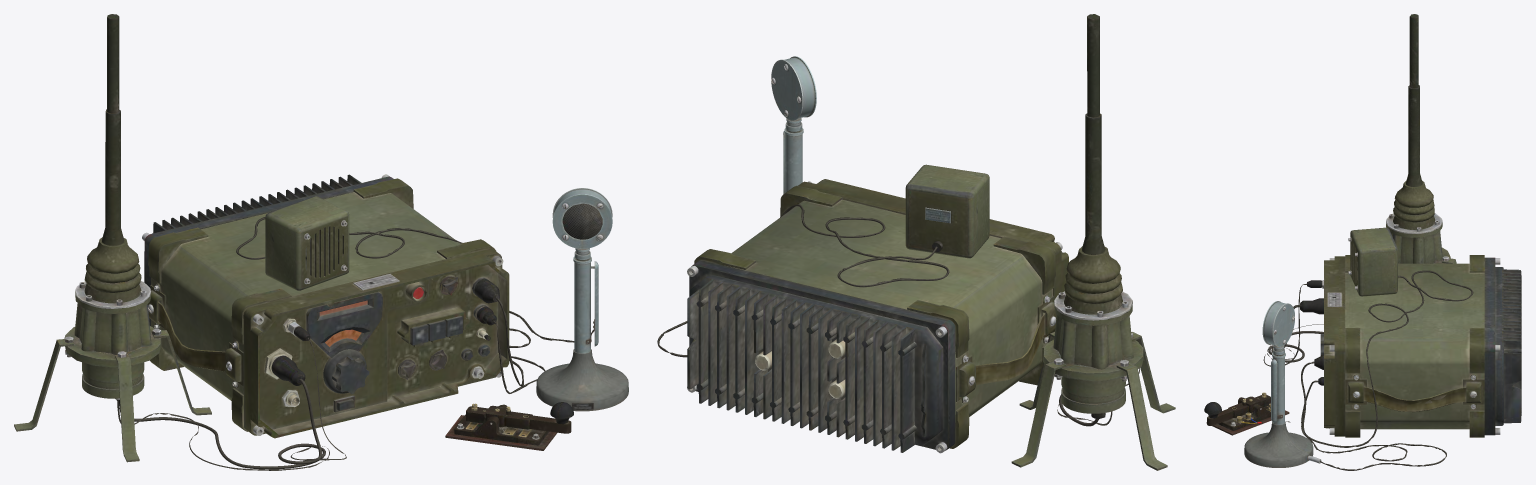
Rendered from radio_transceiver.glb.
3 views of the same model, side by side, from view 1: azimuth 30°, elevation 25°; view 2: azimuth 150°, elevation 25°; view 3: azimuth 270°, elevation 25° (orthographic). The views are drawn at different scales.
Parts seen in each view (by area): view 1: vintage_radio_transceiver, vintage_radio_transceiver_antenna, vintage_radio_transceiver_microphone, vintage_radio_transceiver_speaker, vintage_radio_transceiver_cables, vintage_radio_transceiver_morse_key_base, vintage_radio_transceiver_morse_key_arm, vintage_radio_transceiver_dial, vintage_radio_transceiver_antenna_plug_a; view 2: vintage_radio_transceiver, vintage_radio_transceiver_antenna, vintage_radio_transceiver_speaker, vintage_radio_transceiver_microphone, vintage_radio_transceiver_cables; view 3: vintage_radio_transceiver, vintage_radio_transceiver_antenna, vintage_radio_transceiver_microphone, vintage_radio_transceiver_speaker, vintage_radio_transceiver_cables, vintage_radio_transceiver_morse_key_arm, vintage_radio_transceiver_morse_key_base.
Part boxes in pixels (box(x1,y1,x2,y2)): vintage_radio_transceiver: box(142, 174, 509, 438); vintage_radio_transceiver_antenna: box(14, 14, 211, 462); vintage_radio_transceiver_microphone: box(536, 188, 628, 411); vintage_radio_transceiver_speaker: box(265, 196, 349, 290); vintage_radio_transceiver_cables: box(117, 217, 574, 470); vintage_radio_transceiver_morse_key_base: box(445, 404, 557, 450); vintage_radio_transceiver_morse_key_arm: box(466, 402, 573, 433); vintage_radio_transceiver_dial: box(323, 329, 369, 393); vintage_radio_transceiver_antenna_plug_a: box(271, 355, 305, 385); vintage_radio_transceiver: box(687, 179, 1068, 453); vintage_radio_transceiver_antenna: box(1011, 14, 1175, 470); vintage_radio_transceiver_speaker: box(905, 164, 989, 258); vintage_radio_transceiver_microphone: box(771, 56, 816, 194); vintage_radio_transceiver_cables: box(657, 204, 1139, 426); vintage_radio_transceiver: box(1324, 255, 1521, 437); vintage_radio_transceiver_antenna: box(1386, 14, 1456, 263); vintage_radio_transceiver_microphone: box(1244, 301, 1321, 467); vintage_radio_transceiver_speaker: box(1348, 227, 1397, 296); vintage_radio_transceiver_cables: box(1263, 270, 1473, 470); vintage_radio_transceiver_morse_key_arm: box(1204, 392, 1270, 425); vintage_radio_transceiver_morse_key_base: box(1206, 397, 1289, 435).
Size of the model in its own units: 0.574 by 0.4344 by 0.4131.
2 materials, 2 textured.
